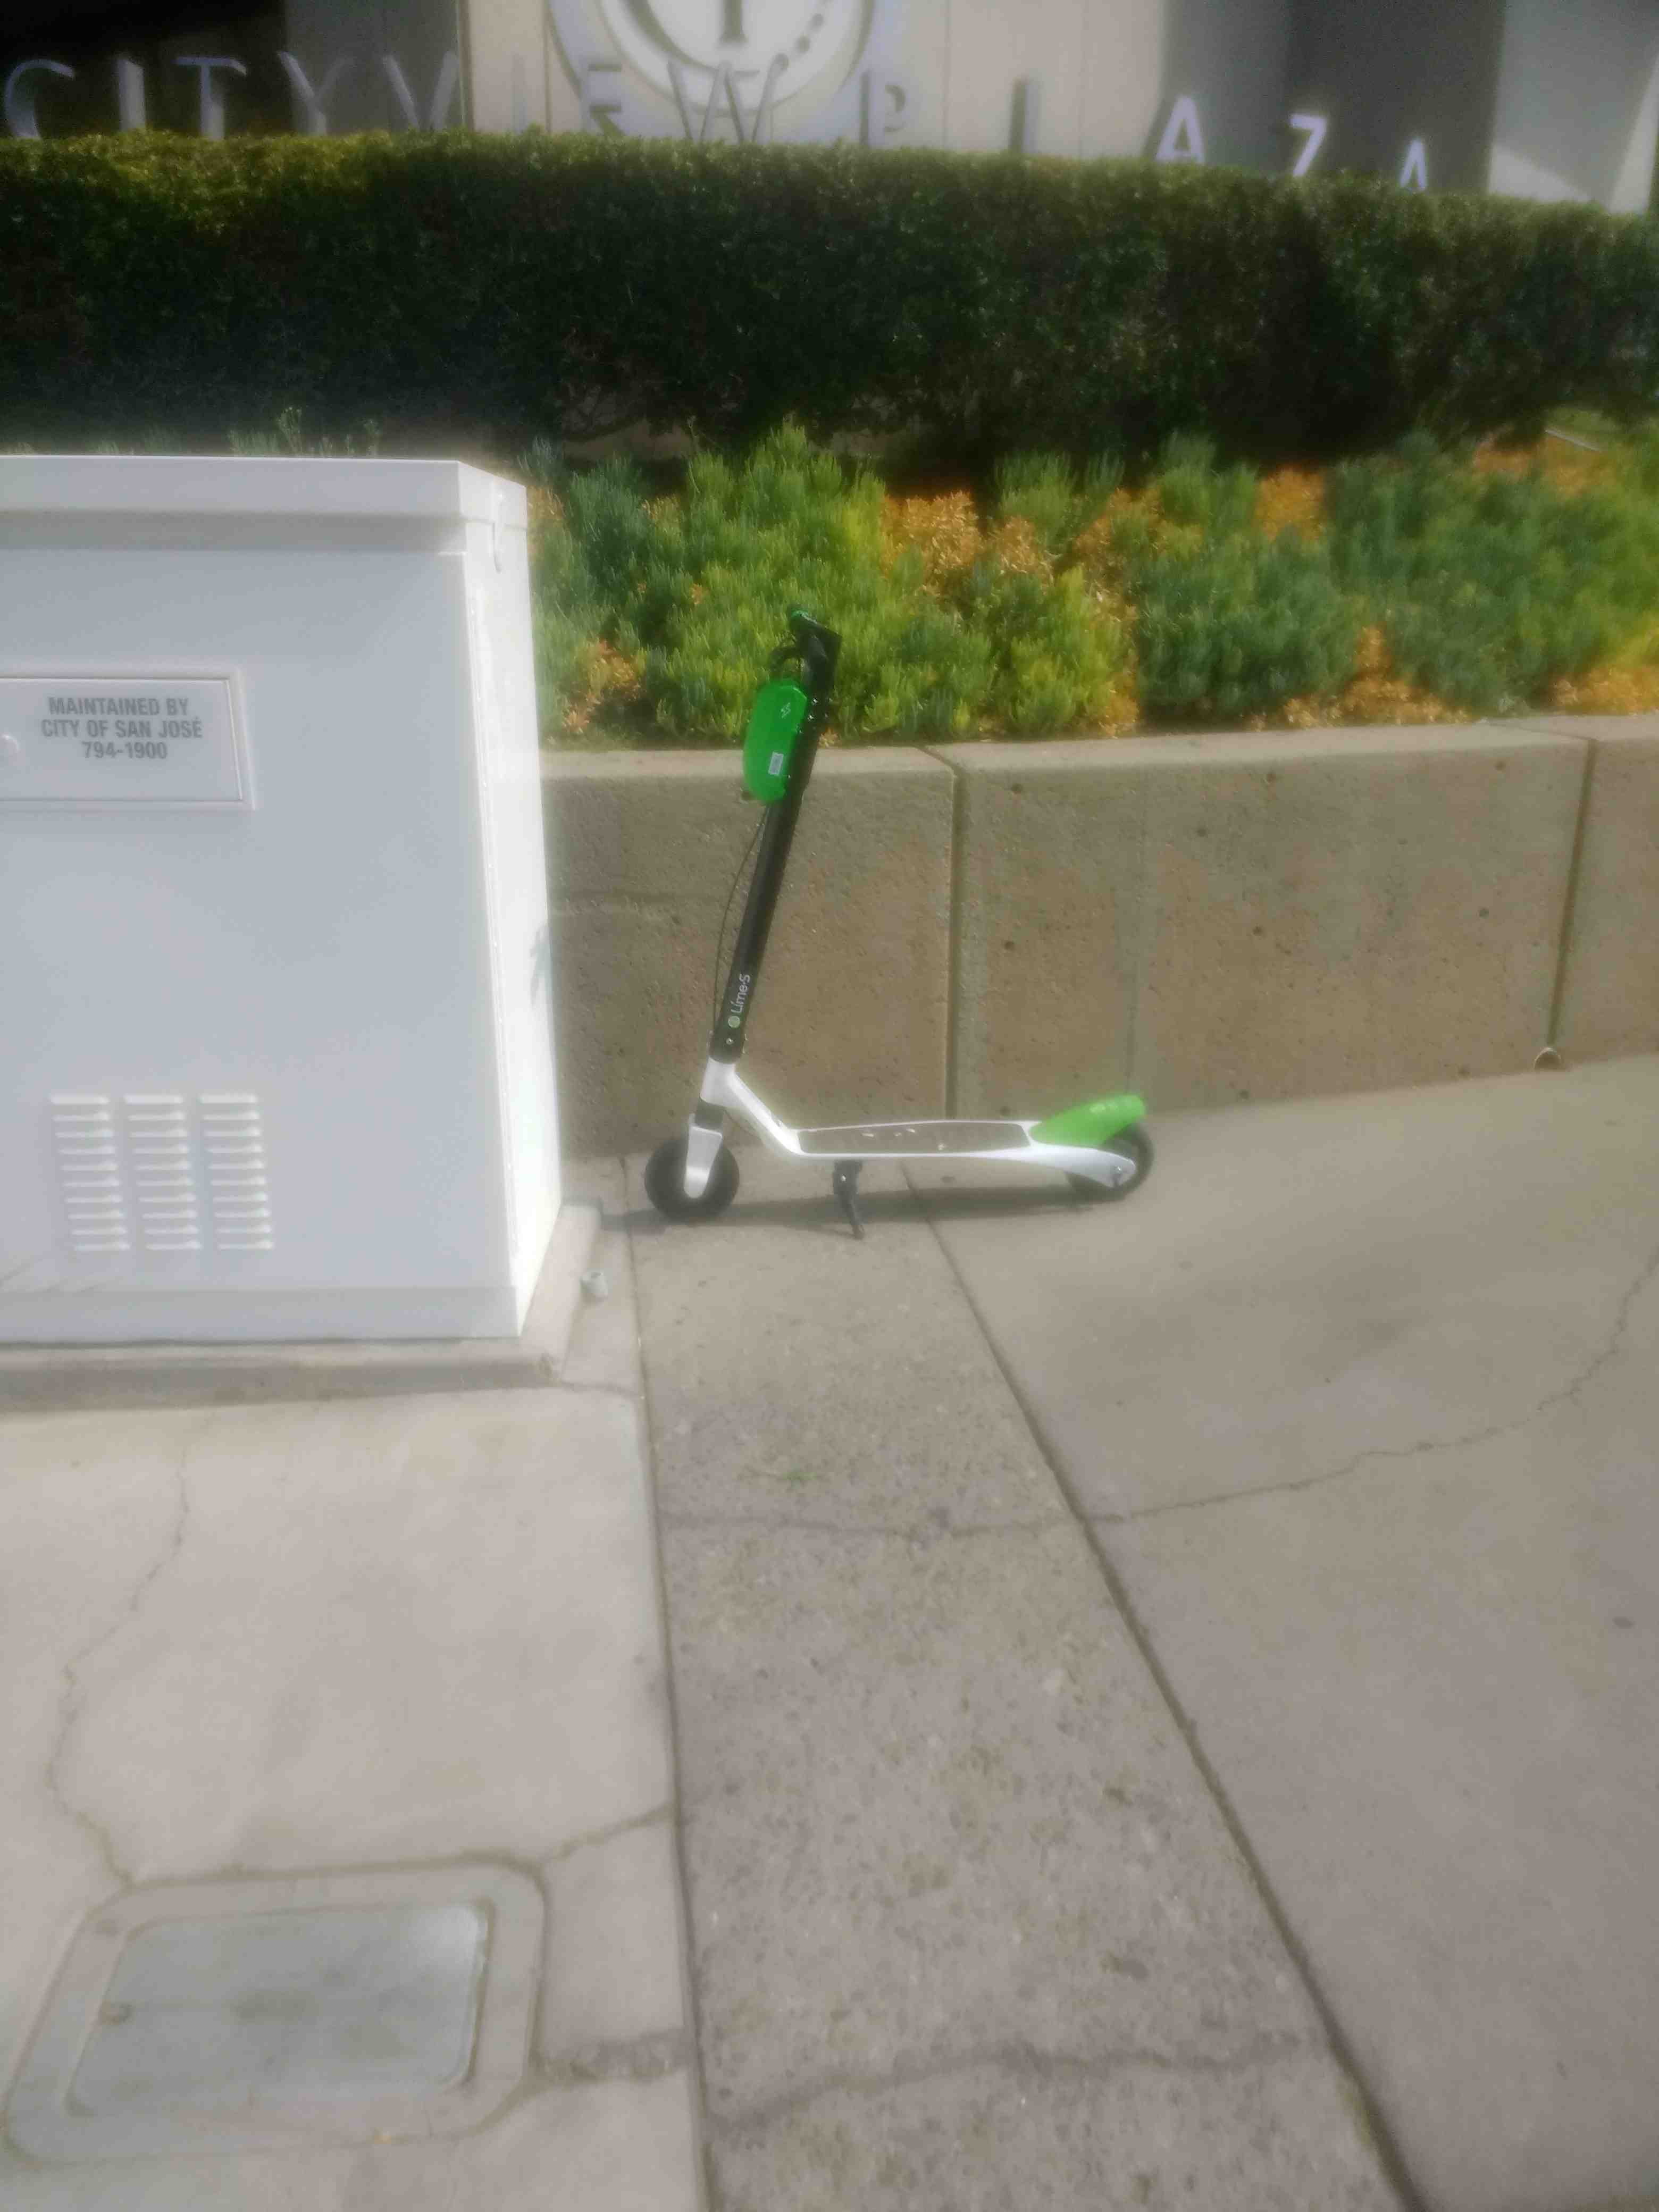scooter: (591, 597, 1197, 1214)
